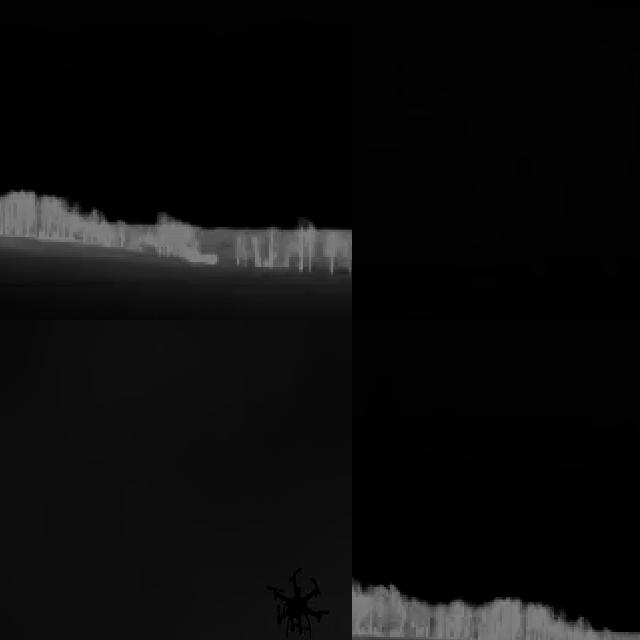drone: (266, 559, 332, 640)
